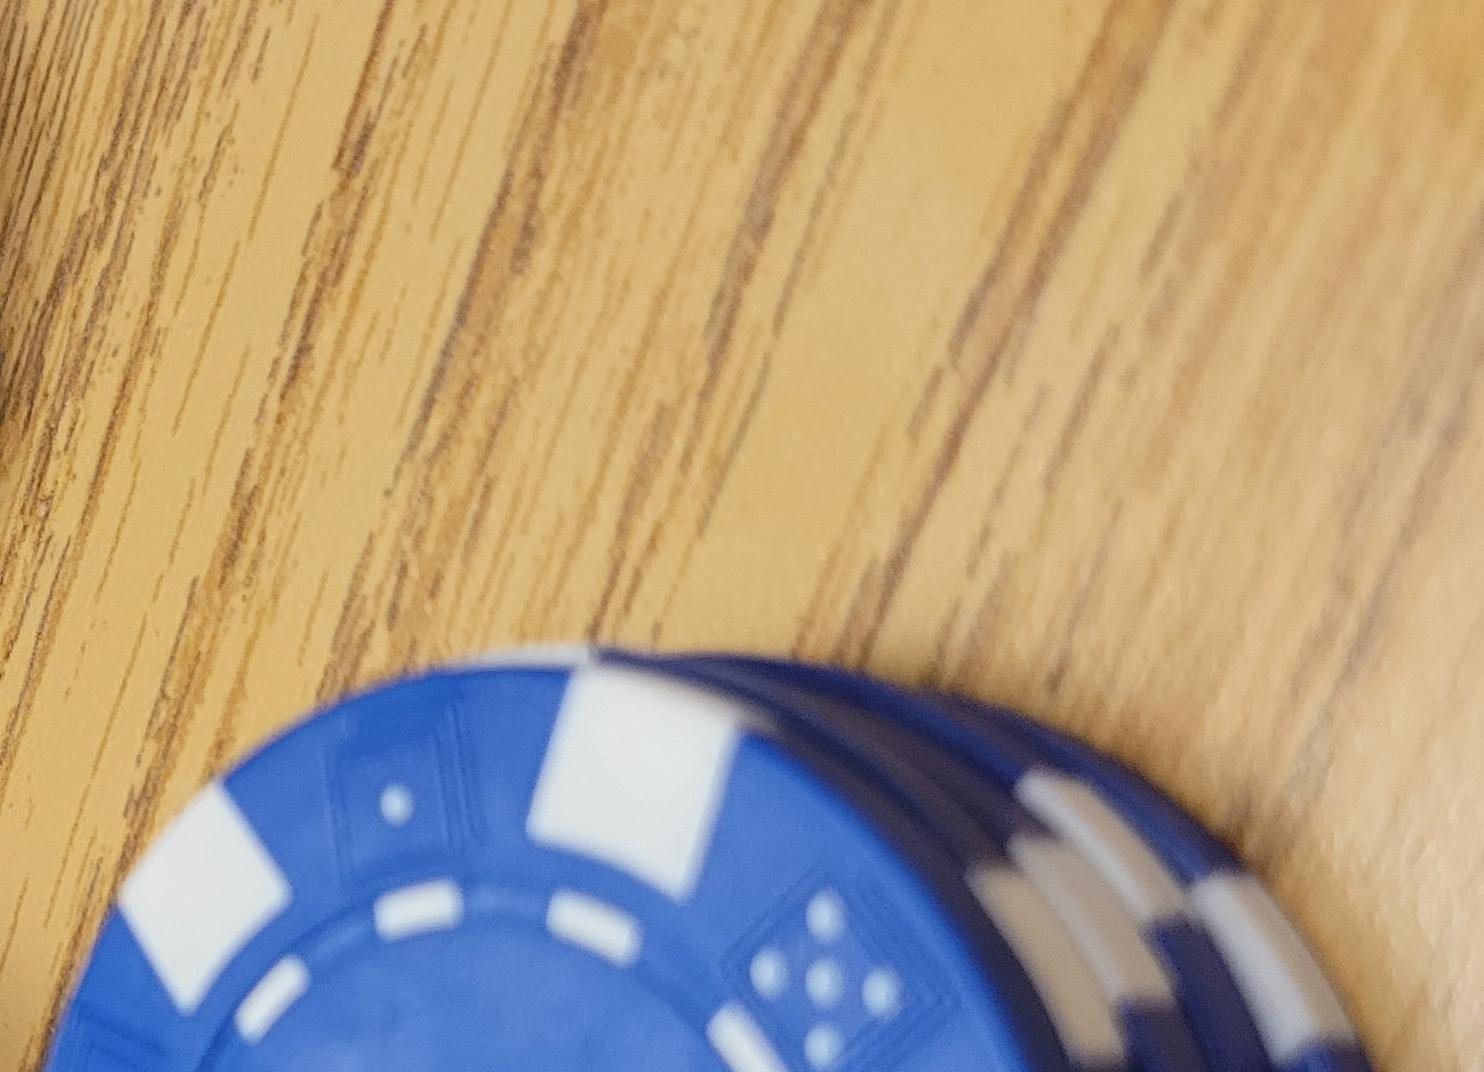Chip: (1, 197, 586, 1072)
